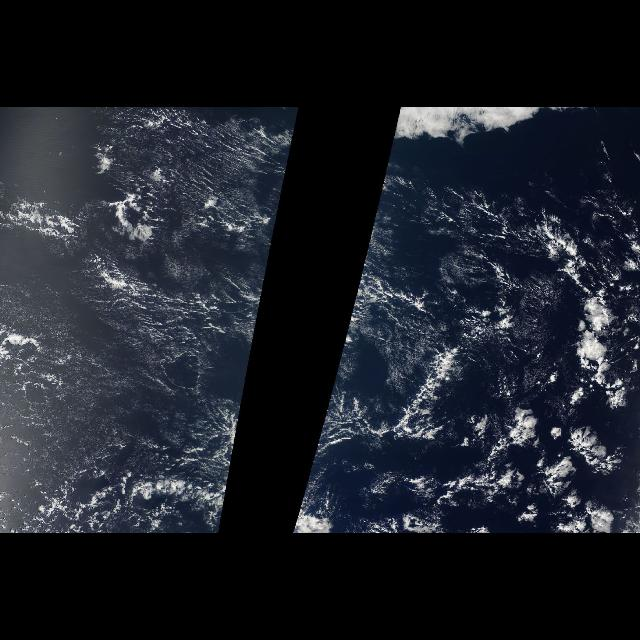Sugar: (4, 326, 204, 492), (108, 116, 272, 254)
